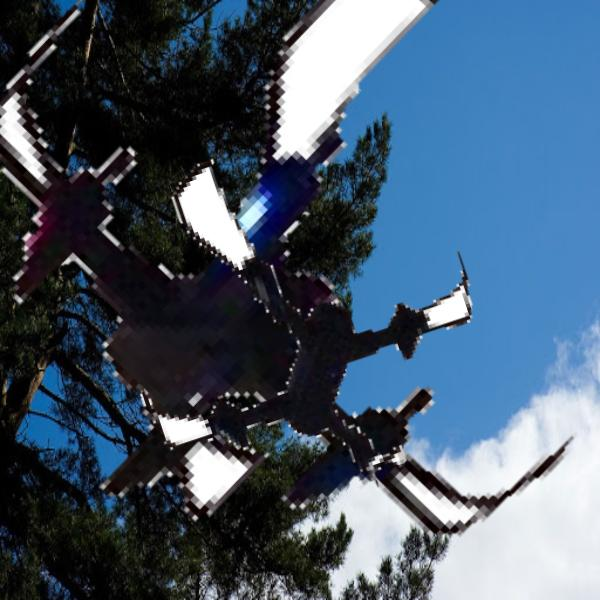drone: (105, 129, 490, 514)
